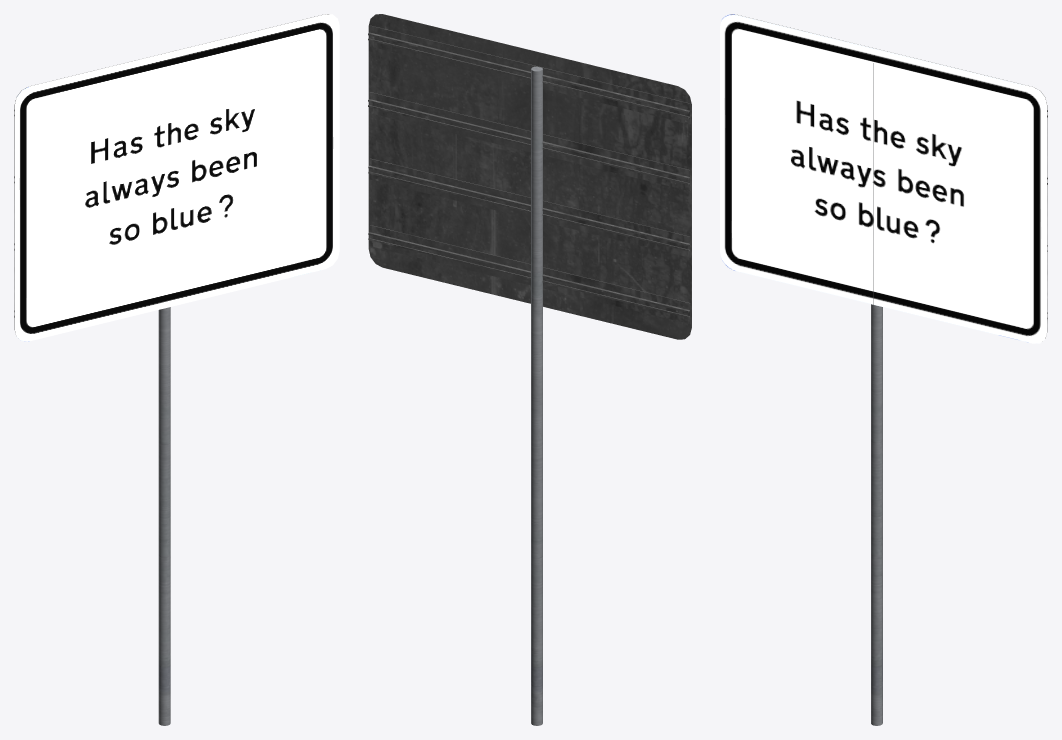
File: sky-blue.gltf
3 views of the same model, side by side, from view 1: azimuth 30°, elevation 25°; view 2: azimuth 150°, elevation 25°; view 3: azimuth 330°, elevation 25° (orthographic).
Visible parts, largest first — view 1: Sign_E_1.0_.004, PoleA_50.8_2800mm_A_.012; view 2: Sign_E_1.0_.004, PoleA_50.8_2800mm_A_.012; view 3: Sign_E_1.0_.004, PoleA_50.8_2800mm_A_.012.
Part boxes in pixels (x1,y1,x2,y2): Sign_E_1.0_.004: (14, 14, 339, 341); PoleA_50.8_2800mm_A_.012: (158, 307, 170, 725); Sign_E_1.0_.004: (368, 14, 691, 339); PoleA_50.8_2800mm_A_.012: (531, 66, 542, 725); Sign_E_1.0_.004: (720, 14, 1047, 343); PoleA_50.8_2800mm_A_.012: (871, 63, 882, 725).
Size of the model in its own units: 1.08 by 2.14 by 0.0344.
Materials: 6 (6 with a texture image).
